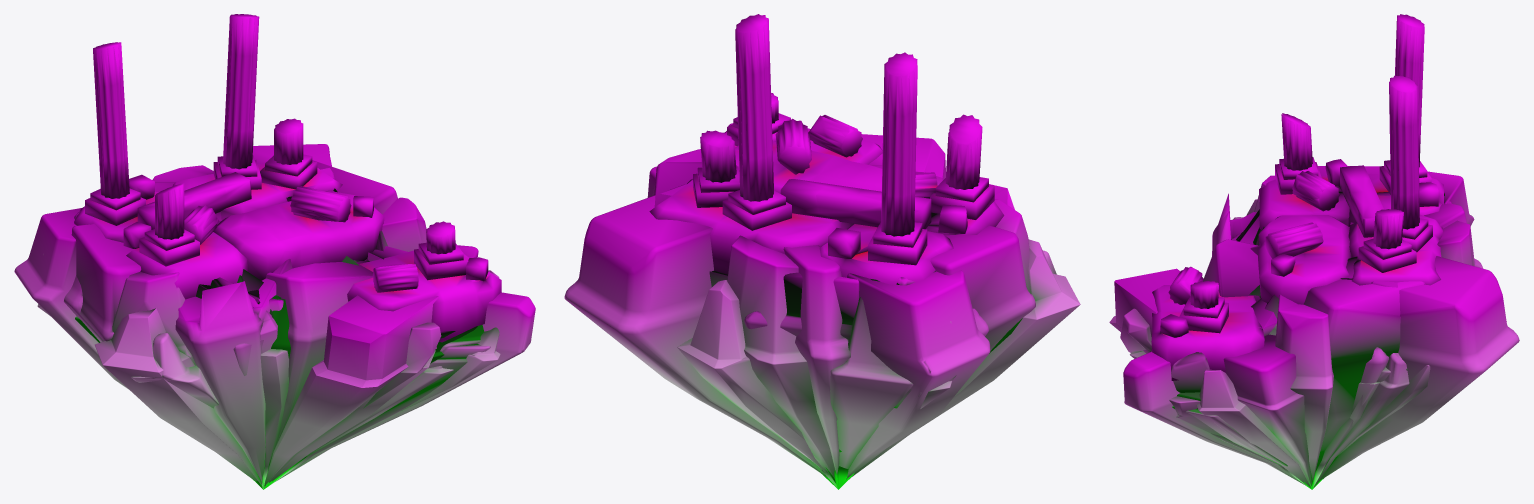
Rendered from far.glb.
3 renders of one model, left to right at view 1: azimuth 30°, elevation 25°; view 2: azimuth 150°, elevation 25°; view 3: azimuth 270°, elevation 25°, orthographic. The views are drawn at different scales.
Parts seen in each view (by area): view 1: rock, marble; view 2: rock, marble; view 3: rock, marble.
Part boxes in pixels (x1,y1,x2,y2): rock: (14, 144, 535, 489); marble: (74, 14, 501, 342); rock: (564, 123, 1080, 489); marble: (649, 14, 1004, 284); rock: (1109, 166, 1519, 489); marble: (1151, 14, 1443, 380).
Size of the model in its own units: 5.84 by 6.5 by 5.7.
